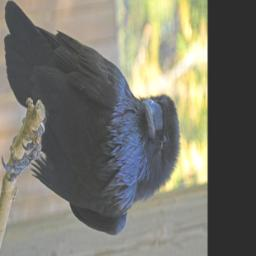Crow: (0, 0, 183, 245)
